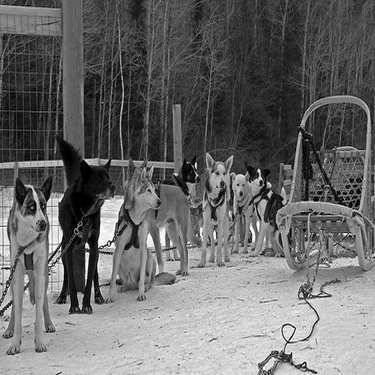dog: (41, 131, 115, 315), (1, 151, 59, 360), (112, 154, 195, 287), (101, 175, 178, 306), (149, 147, 199, 254), (244, 158, 291, 258), (197, 151, 234, 270), (228, 174, 263, 254)
